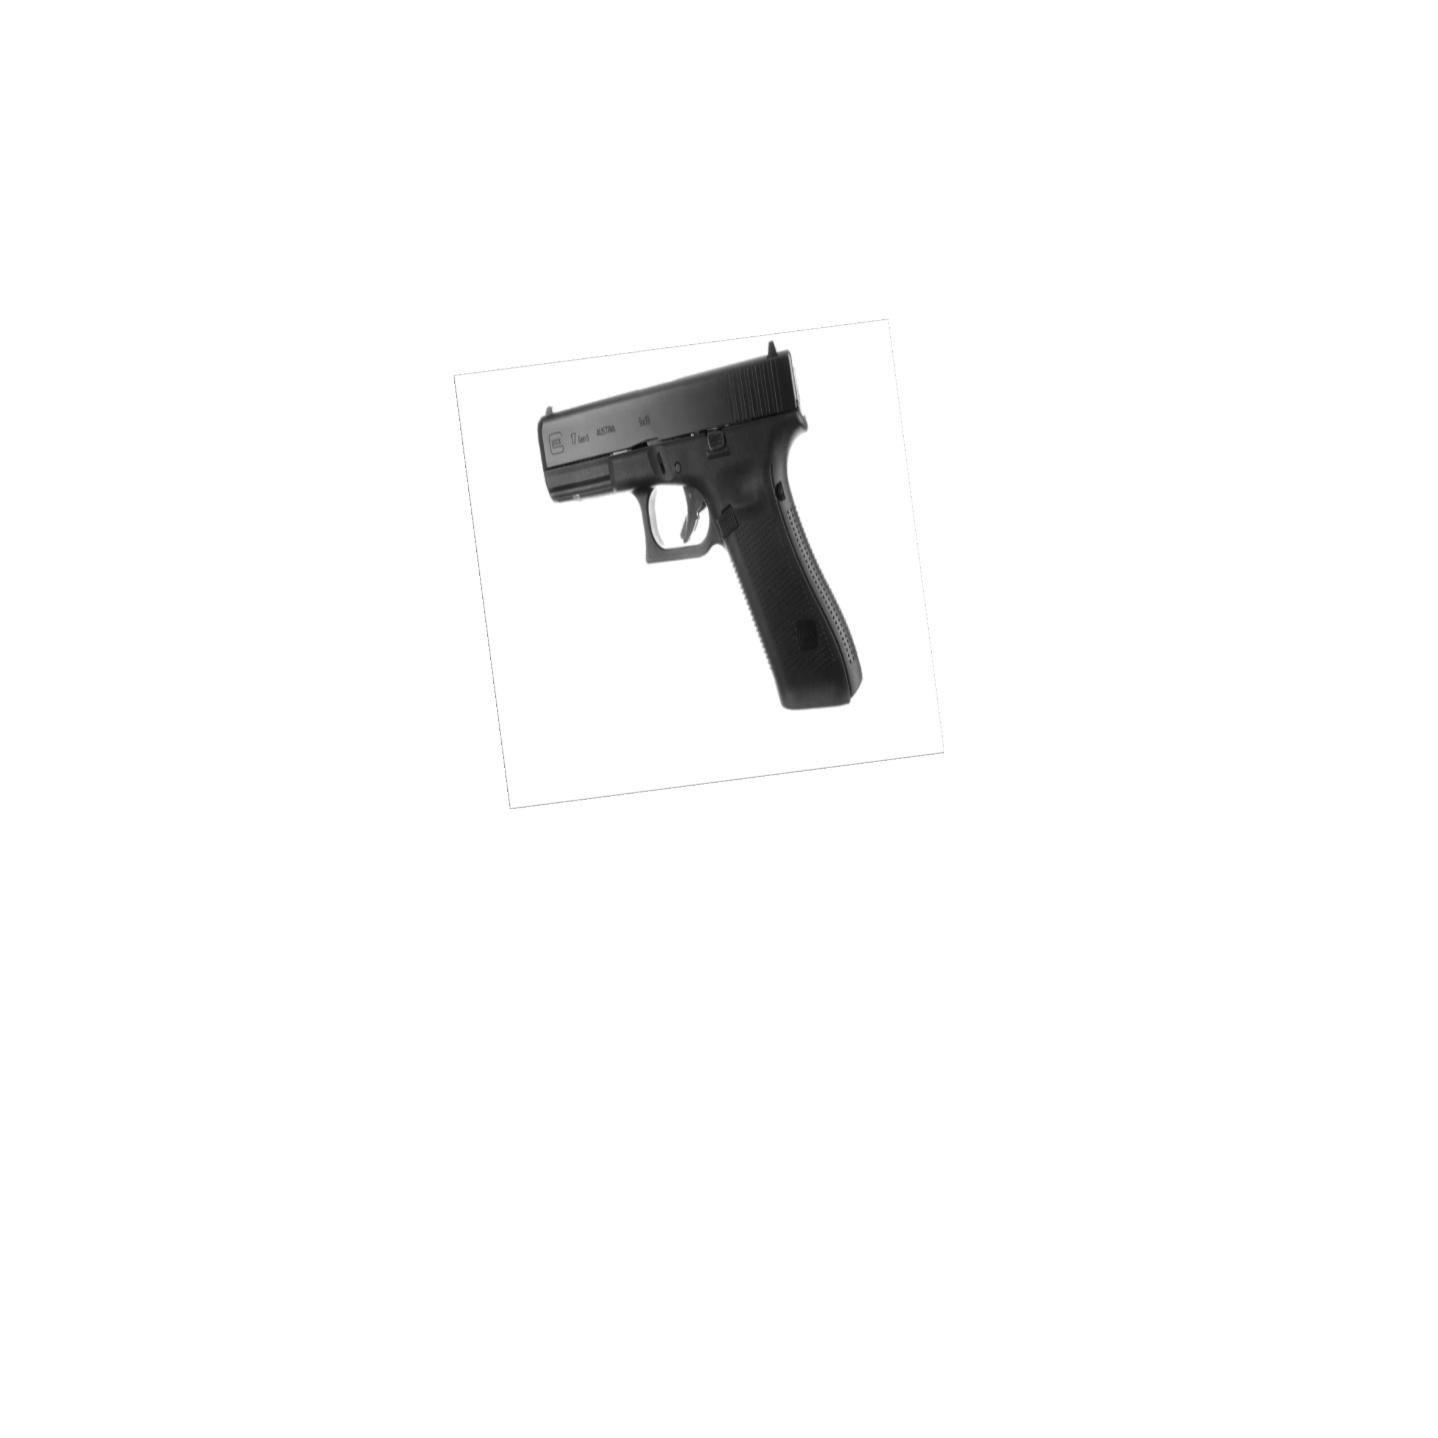gun: (535, 338, 861, 710)
